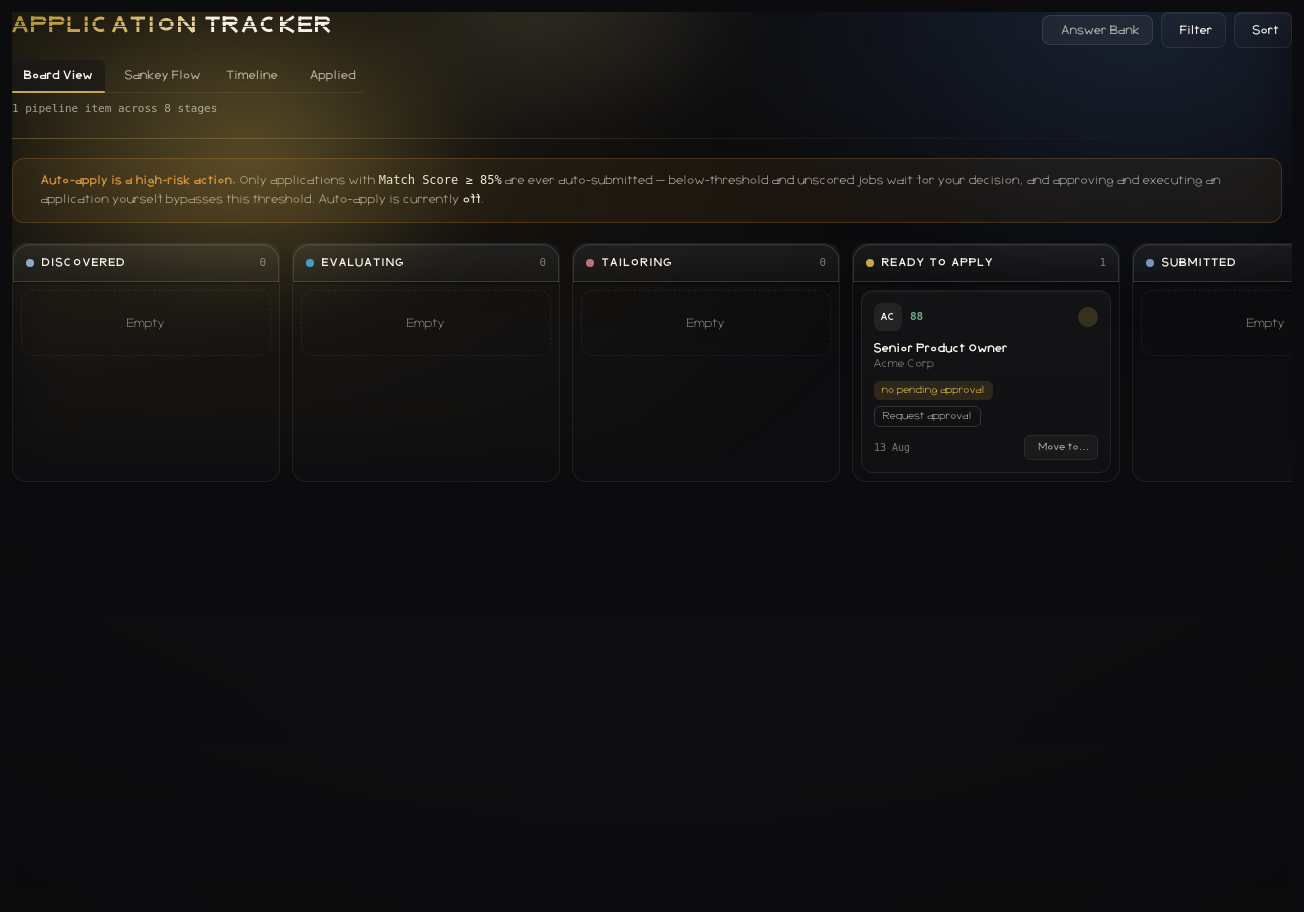
Test: U5 — a blocked application is shown as actionable, never as 'prepared only' › an application with no attempt still reads as prepared — no false alarm
Click the button "Senior Product Owner" at (941, 348), box [874,341,1008,356]
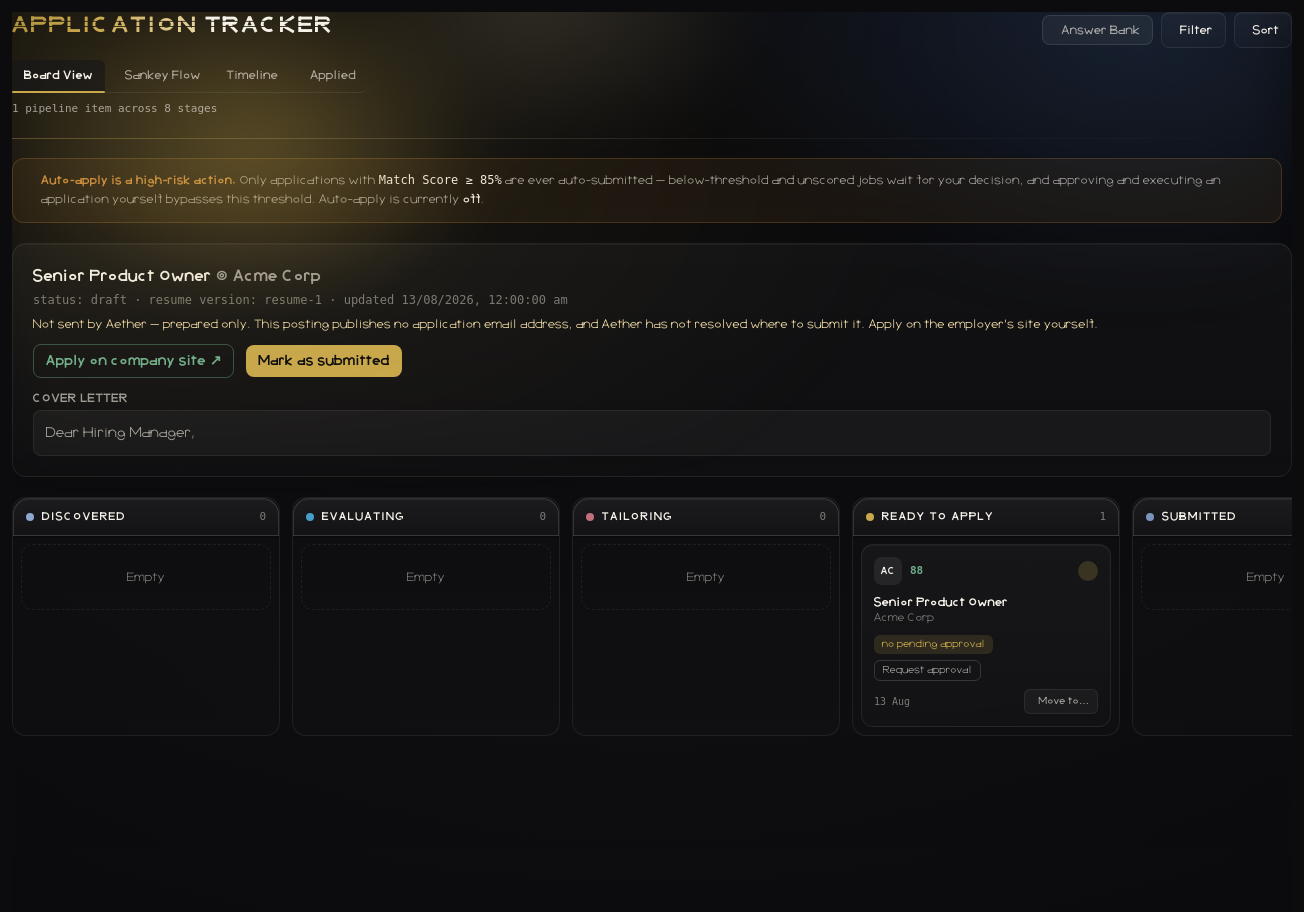
Check: the text with test id "application-transmission-line" shows "prepared only", box [33,318,1098,330]
